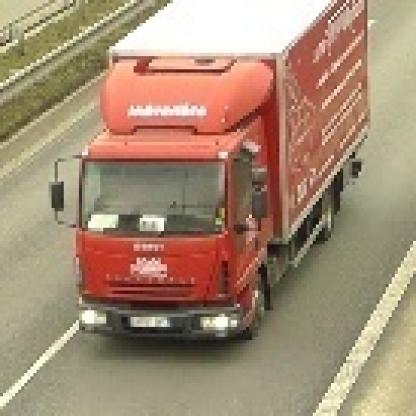truck: (50, 1, 366, 341)
